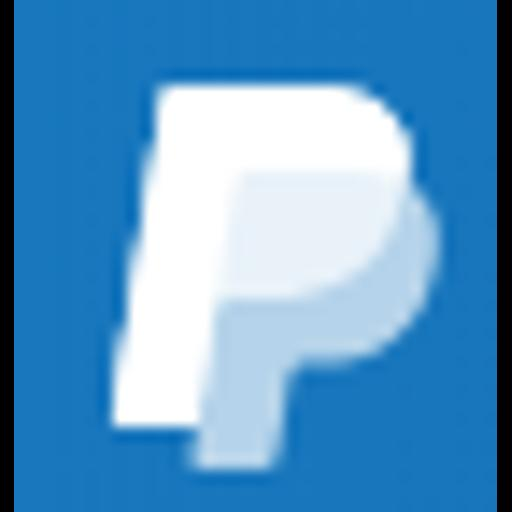PayPal: (14, 0, 497, 512)
